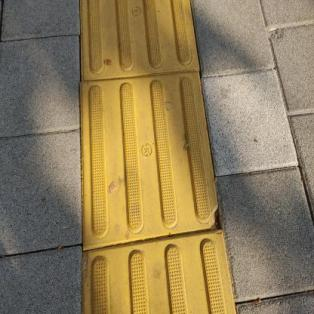Podoctatil: (73, 0, 243, 313)
